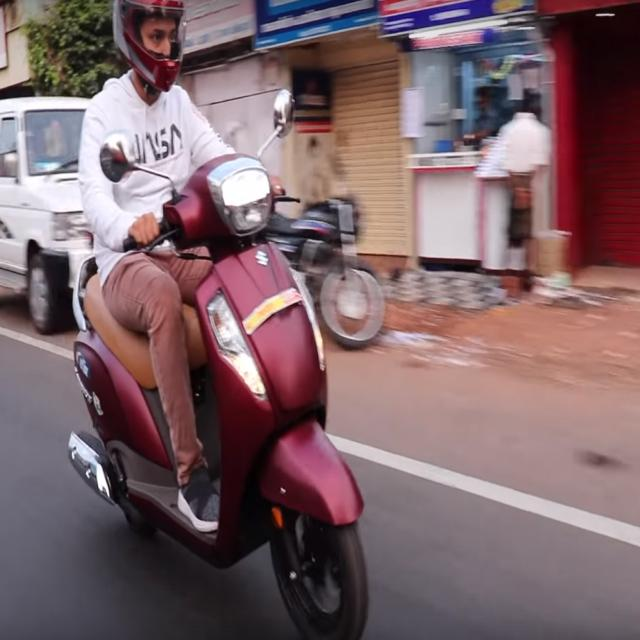helmet: (109, 0, 202, 88)
